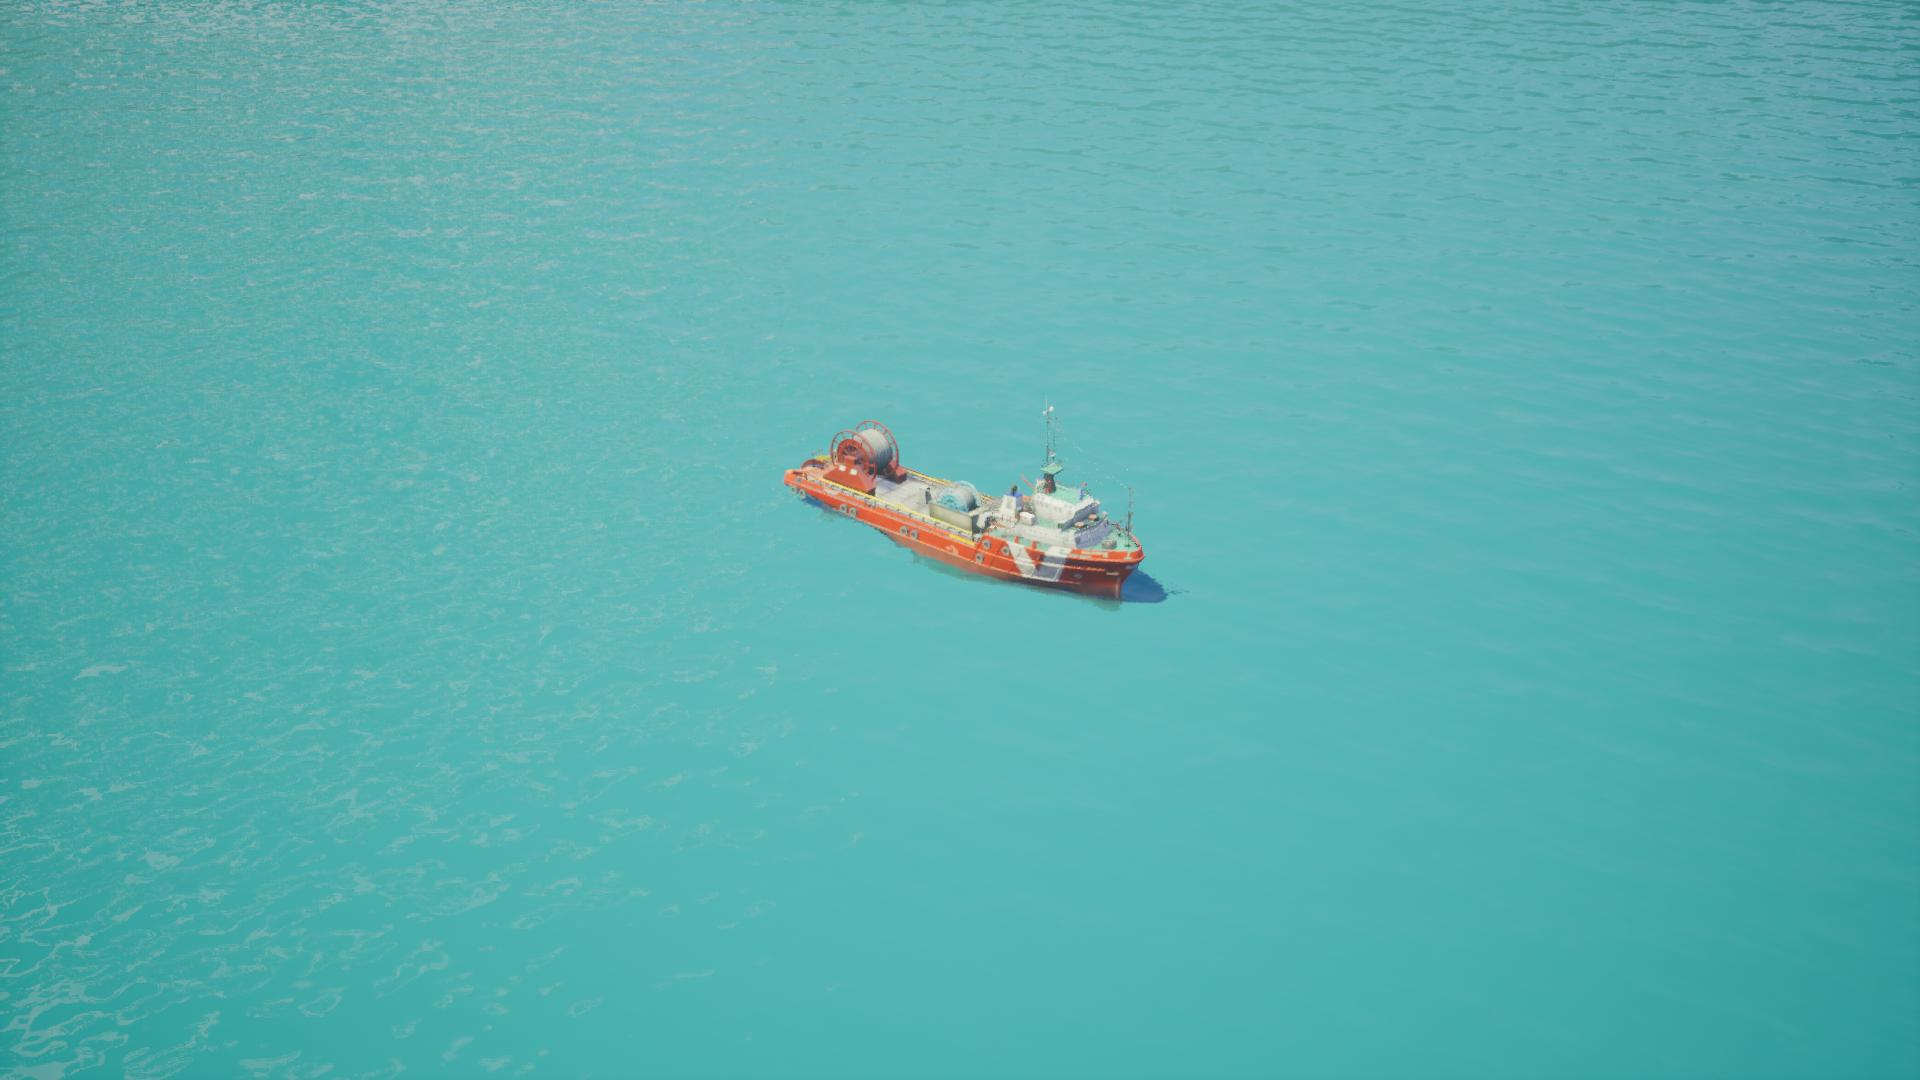Tug Boat: (792, 358, 1147, 665)
